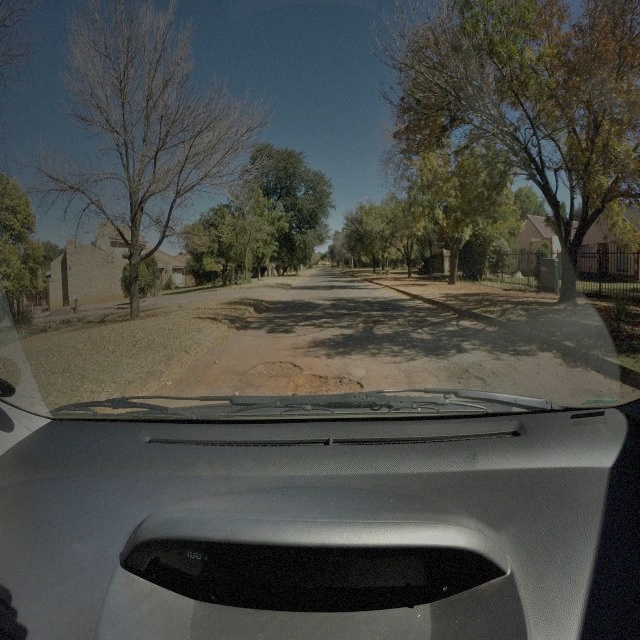pothole: (288, 369, 364, 395), (248, 357, 304, 378), (362, 318, 383, 328)
